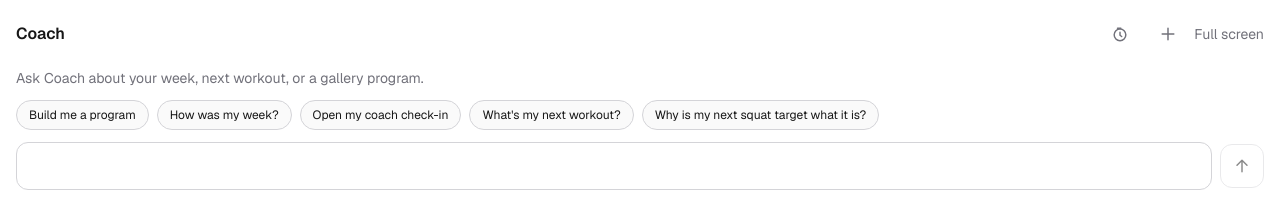
Test: agent chrome › says No earlier chats when nothing is saved yet
Click the button named "Chat history".
click(1120, 34)  # box [1098,12,1142,56]
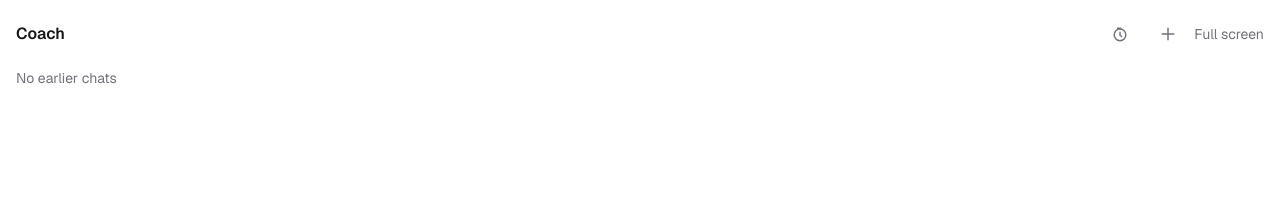
expect the element with class "overflow-y-auto" reads "No earlier chats": met, box [16,69,117,87]
